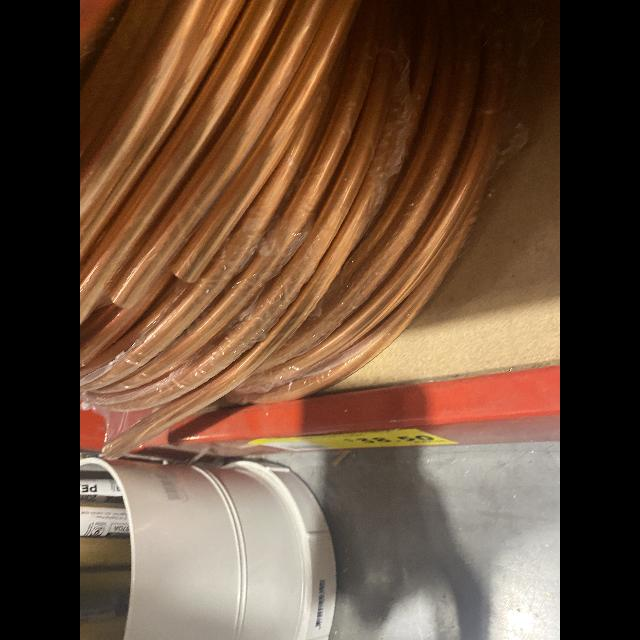Copper: (80, 0, 505, 465)
